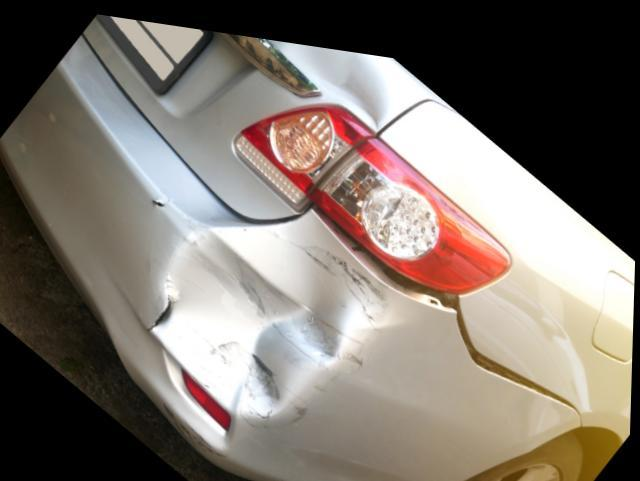crack: (146, 291, 173, 330), (150, 192, 165, 203)
dent: (149, 210, 390, 420), (276, 33, 386, 115)
scratch: (159, 394, 226, 448)
